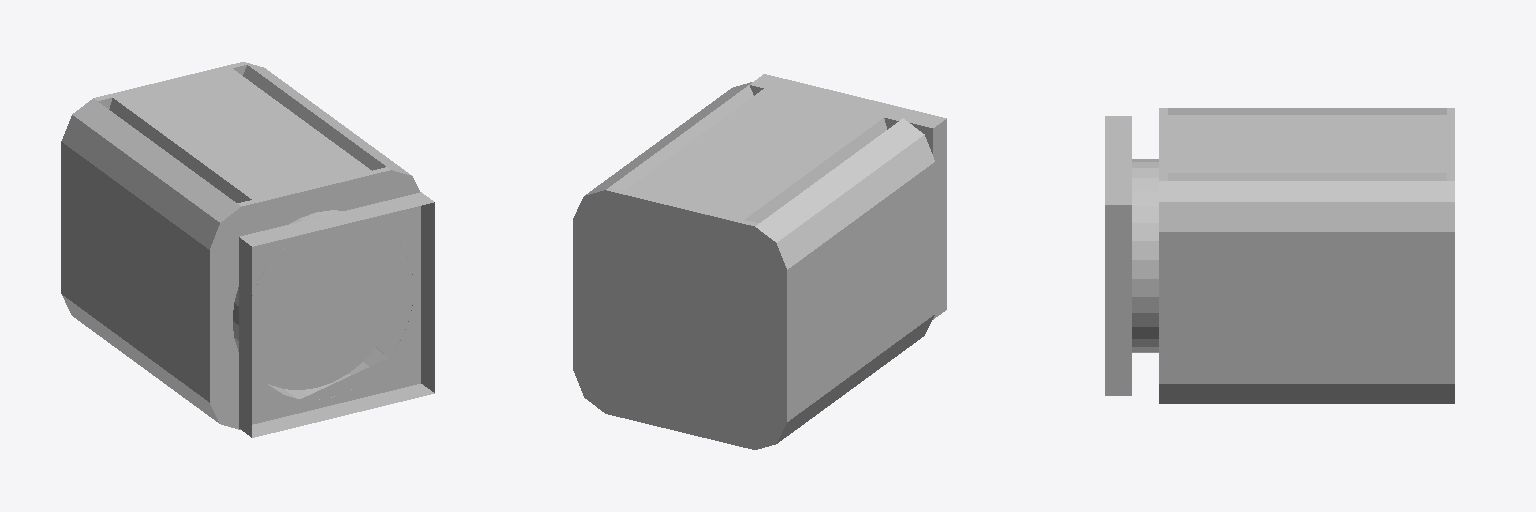
File: kFresu.obj
3 renders of one model, left to right at view 1: azimuth 30°, elevation 25°; view 2: azimuth 150°, elevation 25°; view 3: azimuth 270°, elevation 25°, orthographic.
Visible parts, largest first — view 1: Keskikokoinen_Fresu_Cube.001; view 2: Keskikokoinen_Fresu_Cube.001; view 3: Keskikokoinen_Fresu_Cube.001.
Boxes of the visible parts, x1,y1,x2,y2 form: Keskikokoinen_Fresu_Cube.001: [61, 62, 434, 437]; Keskikokoinen_Fresu_Cube.001: [573, 74, 946, 449]; Keskikokoinen_Fresu_Cube.001: [1105, 108, 1454, 403].
Size of the model in its own units: 2.92 by 2.92 by 4.15.